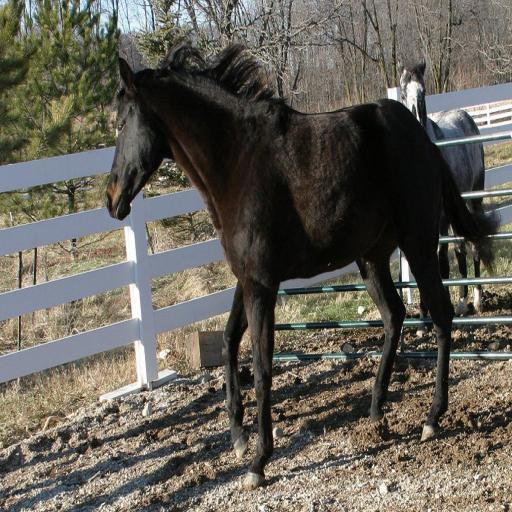horse: (102, 36, 504, 492), (398, 60, 486, 338)
